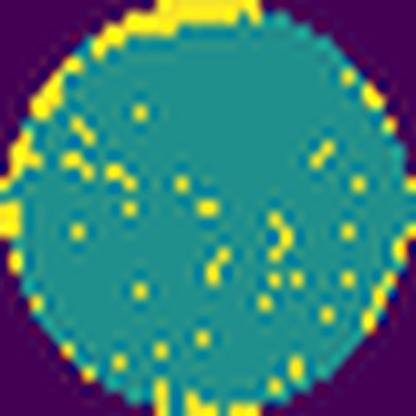Edge-Loc: (88, 0, 266, 55), (0, 128, 31, 287), (30, 53, 88, 124)
